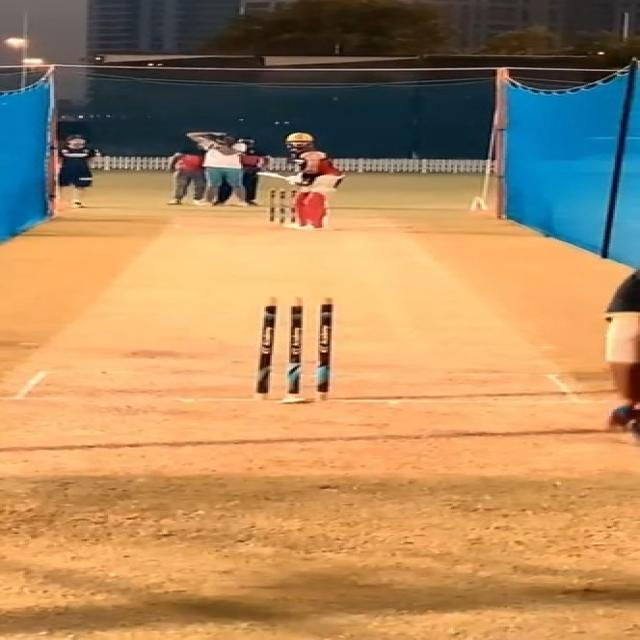batsman: (256, 132, 347, 231)
